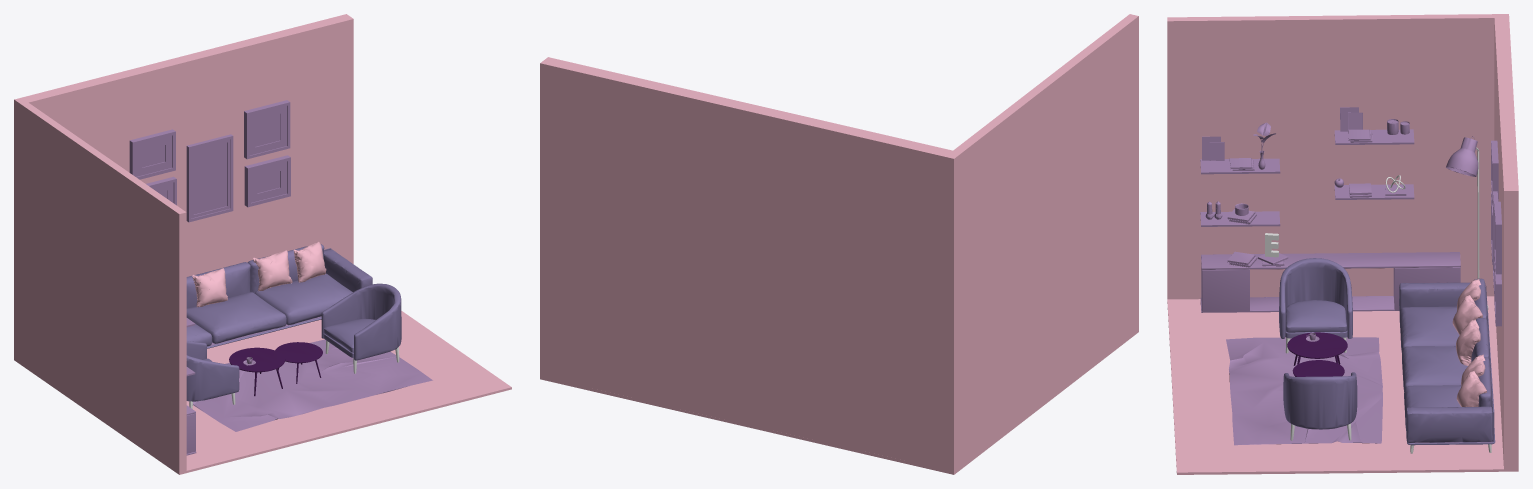
Rendered from meta_realty_without_animation.glb.
3 renders of one model, left to right at view 1: azimuth 30°, elevation 25°; view 2: azimuth 150°, elevation 25°; view 3: azimuth 270°, elevation 25°, orthographic. The views are drawn at different scales.
Visible parts, largest first — view 1: model; view 2: model; view 3: model.
Part boxes in pixels (left/top/right/bottom): model: left=14, top=14, right=511, bottom=474; model: left=540, top=14, right=1138, bottom=474; model: left=1167, top=14, right=1518, bottom=474.
Bounding box in the file's own units: 16.98 × 12.32 × 13.99.
